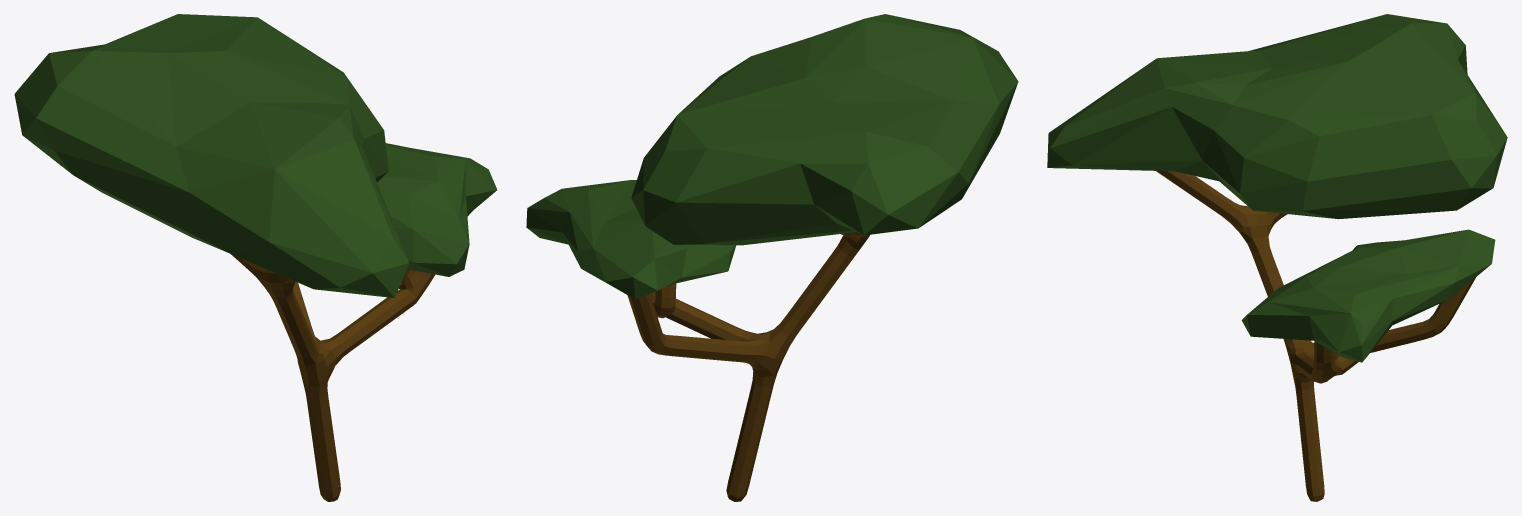
Rendered from TREE1_F.fbx.
The picture shows the model from 3 angles, left to right: view 1: azimuth 30°, elevation 25°; view 2: azimuth 150°, elevation 25°; view 3: azimuth 270°, elevation 25°; orthographic projection. The views are drawn at different scales.
Visible parts, largest first — view 1: Tree_1; view 2: Tree_1; view 3: Tree_1.
Part boxes in pixels (<box>): Tree_1: <box>14,14,497,501</box>; Tree_1: <box>526,14,1018,501</box>; Tree_1: <box>1047,14,1507,501</box>.
Bounding box in the file's own units: 5326 × 5270 × 5471.
Materials: 1 (1 with a texture image).
